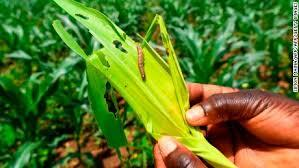fallarmy_worm: (131, 43, 149, 84)
